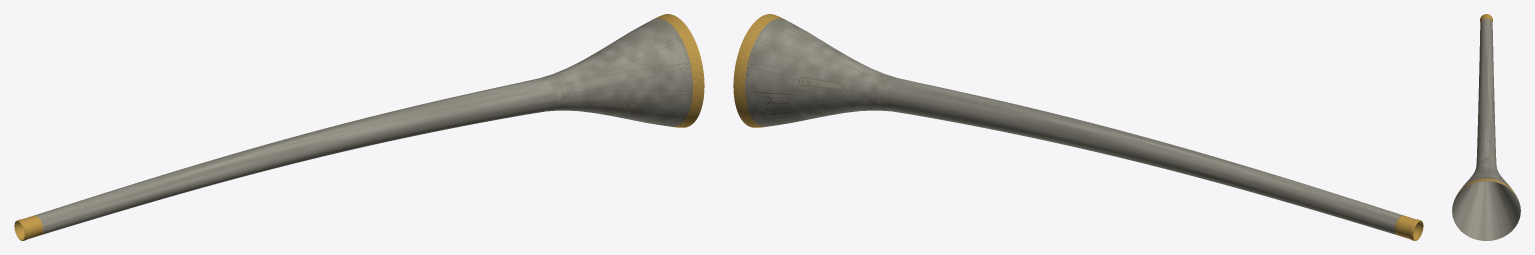
File: silver-trumpet.glb
3 views of the same model, side by side, from view 1: azimuth 30°, elevation 25°; view 2: azimuth 150°, elevation 25°; view 3: azimuth 270°, elevation 25° (orthographic). The views are drawn at different scales.
Parts seen in each view (by area): view 1: silver-body-and-hollow-bell, gold-bell-border, gold-mouthpiece; view 2: silver-body-and-hollow-bell, gold-bell-border, gold-mouthpiece; view 3: silver-body-and-hollow-bell, gold-bell-border, gold-mouthpiece.
Part boxes in pixels (left/top/right/bottom): silver-body-and-hollow-bell: left=35, top=18, right=692, bottom=234; gold-bell-border: left=651, top=14, right=704, bottom=127; gold-mouthpiece: left=14, top=215, right=42, bottom=240; silver-body-and-hollow-bell: left=745, top=18, right=1402, bottom=234; gold-bell-border: left=733, top=14, right=786, bottom=127; gold-mouthpiece: left=1395, top=215, right=1423, bottom=240; silver-body-and-hollow-bell: left=1452, top=18, right=1520, bottom=240; gold-bell-border: left=1452, top=178, right=1520, bottom=240; gold-mouthpiece: left=1480, top=14, right=1492, bottom=22.
Bounding box in the file's own units: 0.5834 × 0.088 × 0.0882.
Materials: 3 (3 with a texture image).
